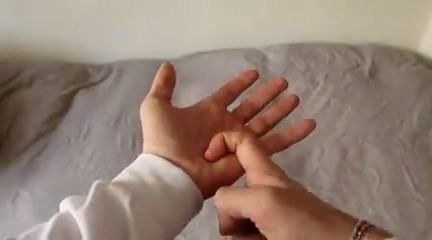R: (136, 55, 389, 240)
